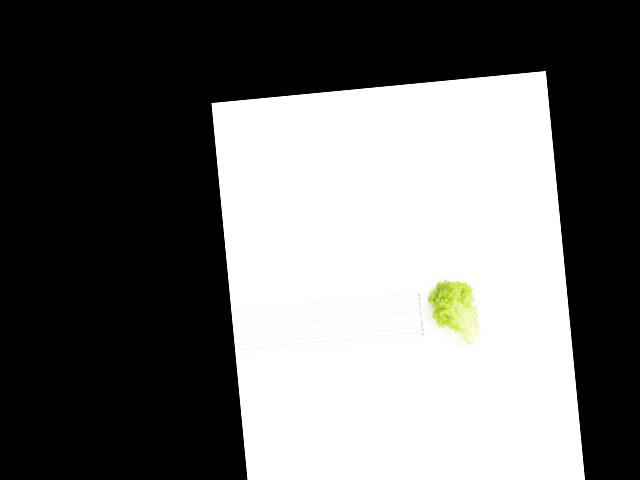lettuce: (426, 274, 483, 348)
